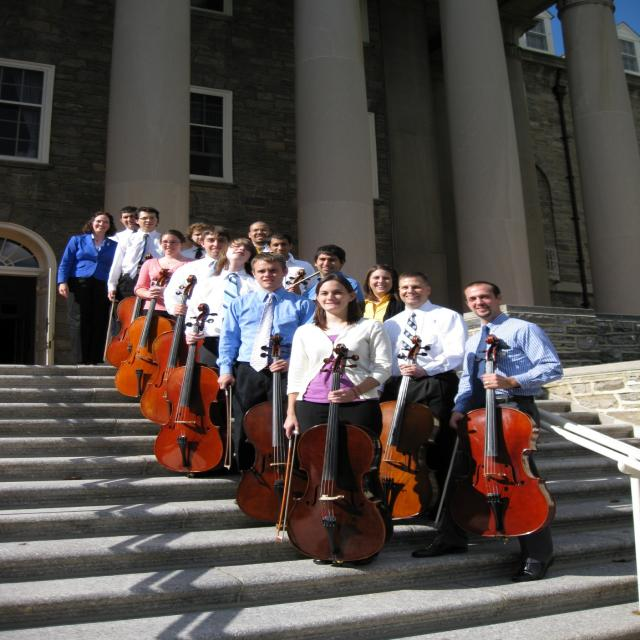cello: (445, 334, 559, 540), (285, 343, 388, 564), (236, 333, 317, 524), (151, 301, 235, 473), (375, 337, 441, 521), (138, 275, 200, 424), (113, 268, 175, 400), (106, 254, 156, 369)
